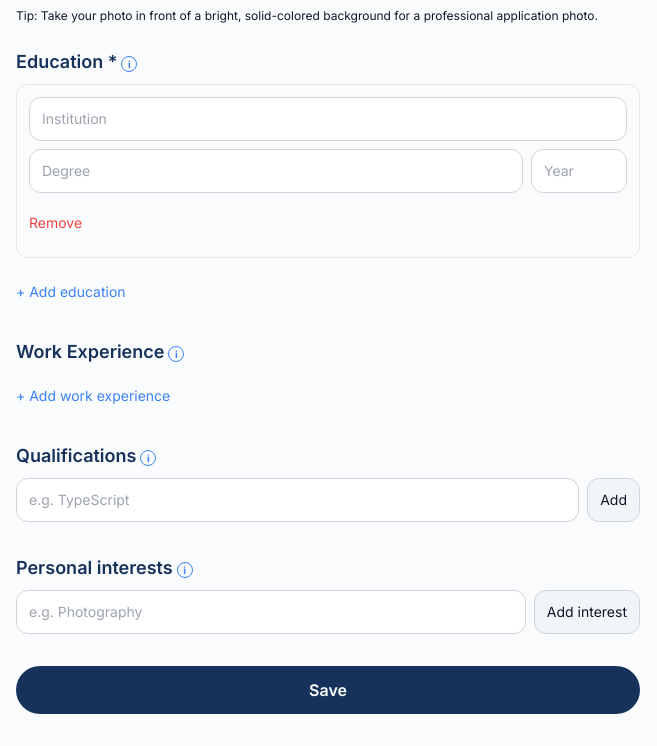
Scenario: ProfileForm › Englisch (AC1) › zeigt den Speichern-Button und Validierungsfehler auf Englisch
(page scrolled)
Click the button "Save" at (328, 690), box [16,666,640,714]
(page scrolled)
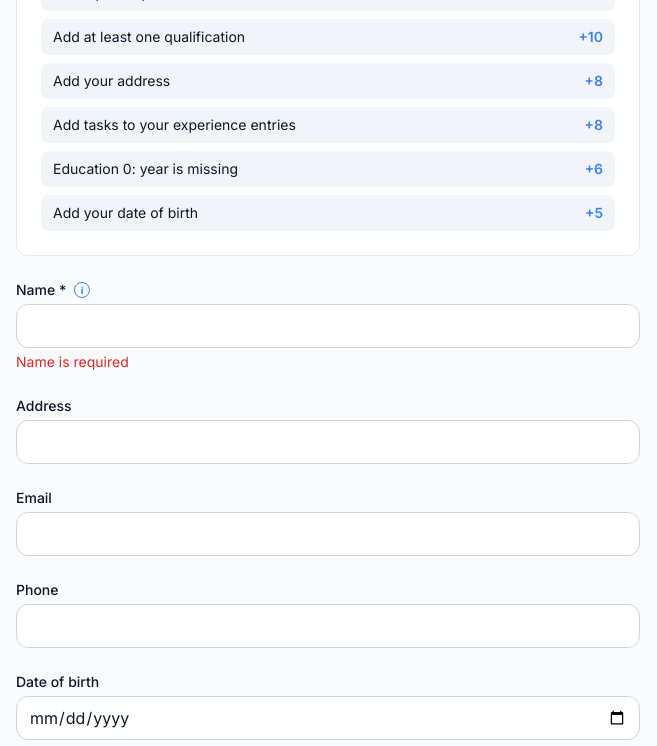
Expected: the text "Name is required" is shown, [16,353,129,370]
